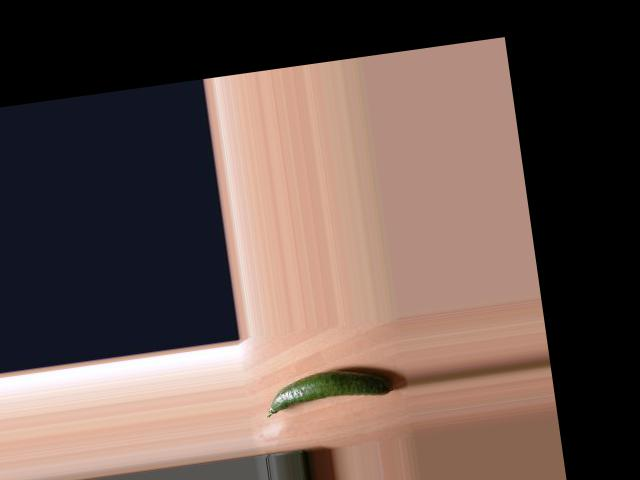cucumber: (261, 361, 396, 417)
